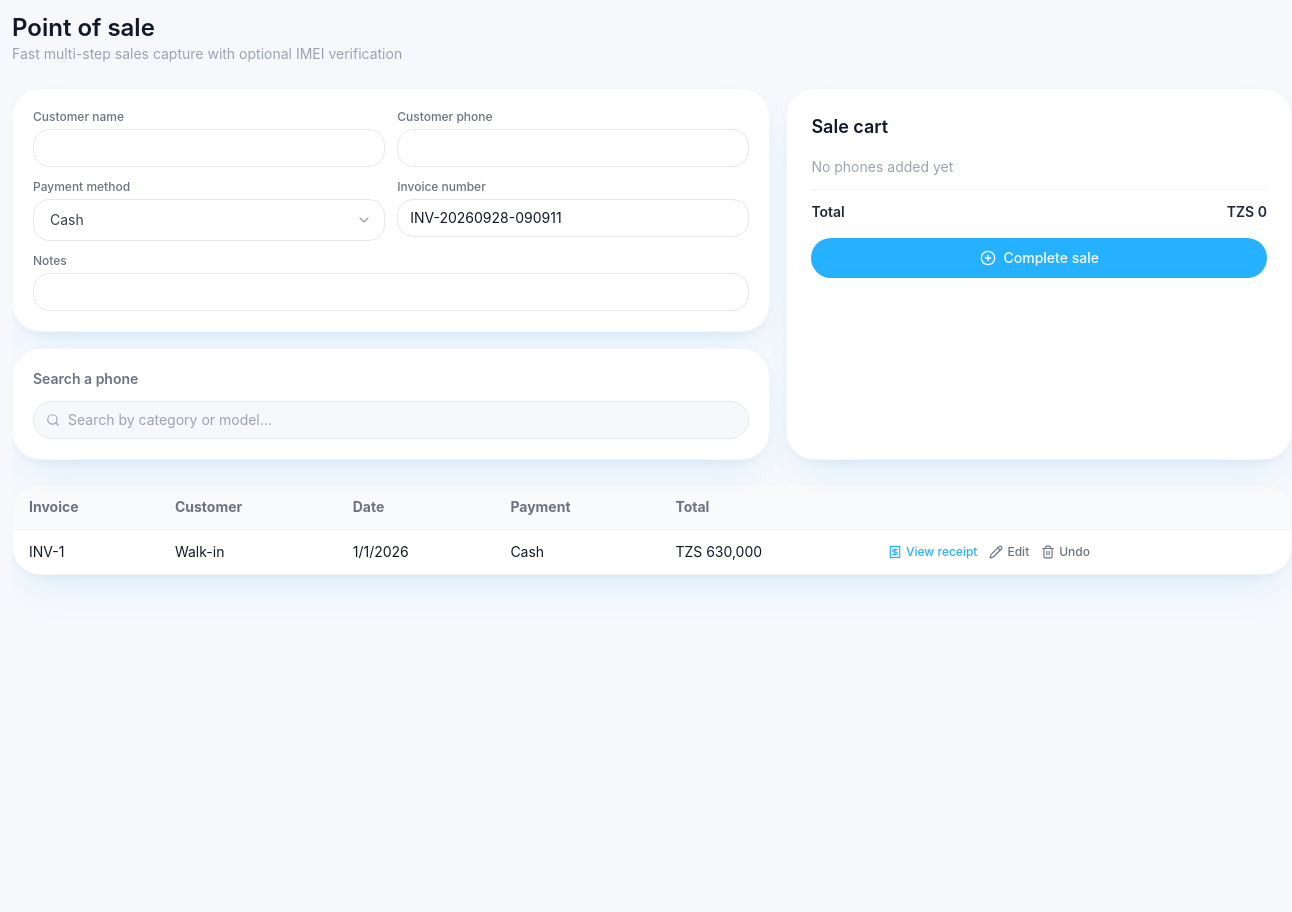
Test case: SalesPage › undoing a recorded sale › shows the server's error when undoing a sale is rejected
This screenshot has width=1292, height=912.
Click the button "Undo": click(1066, 552) [1041,544,1090,560]
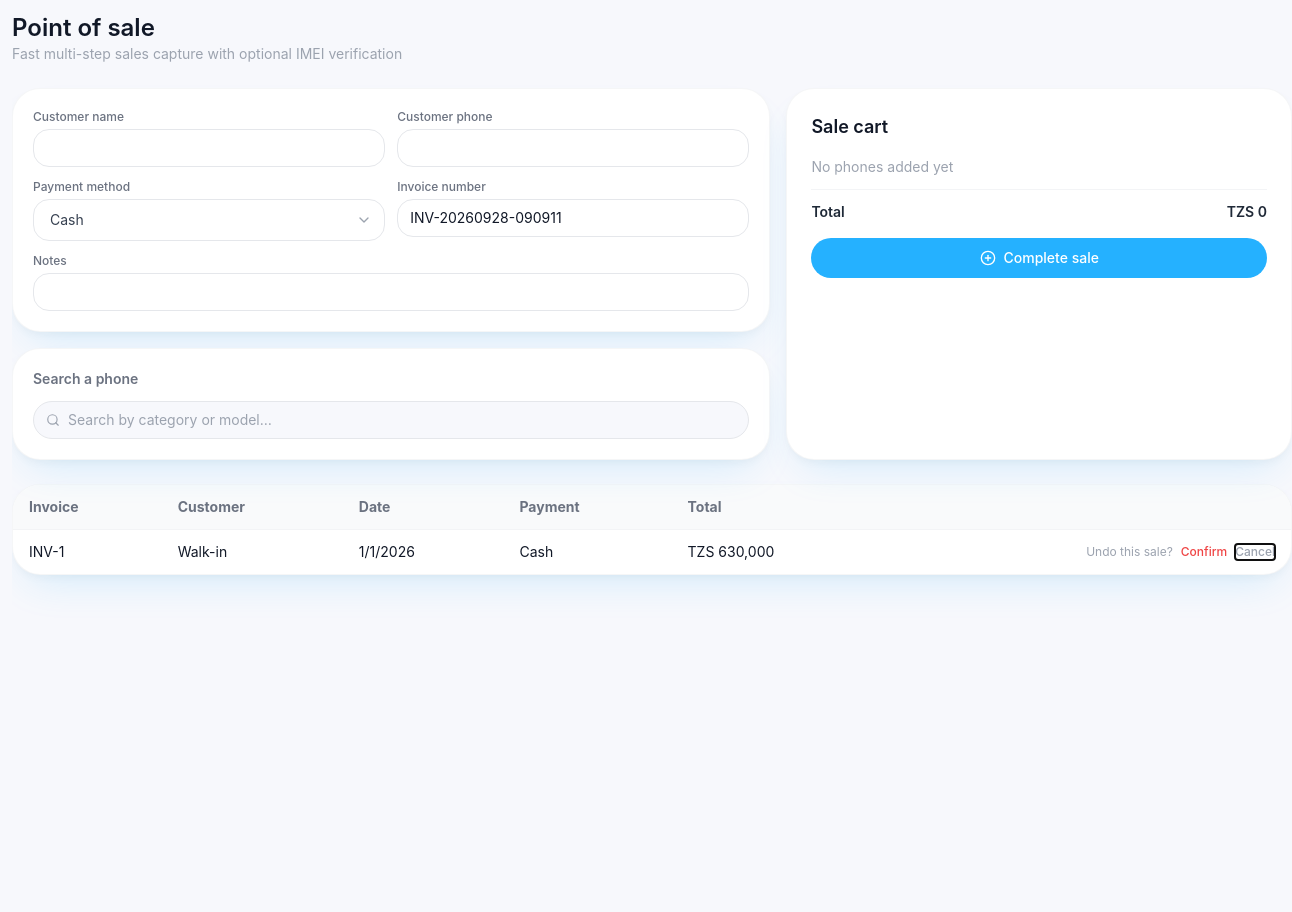
Click the button "Confirm": click(1204, 552) [1181,544,1227,560]
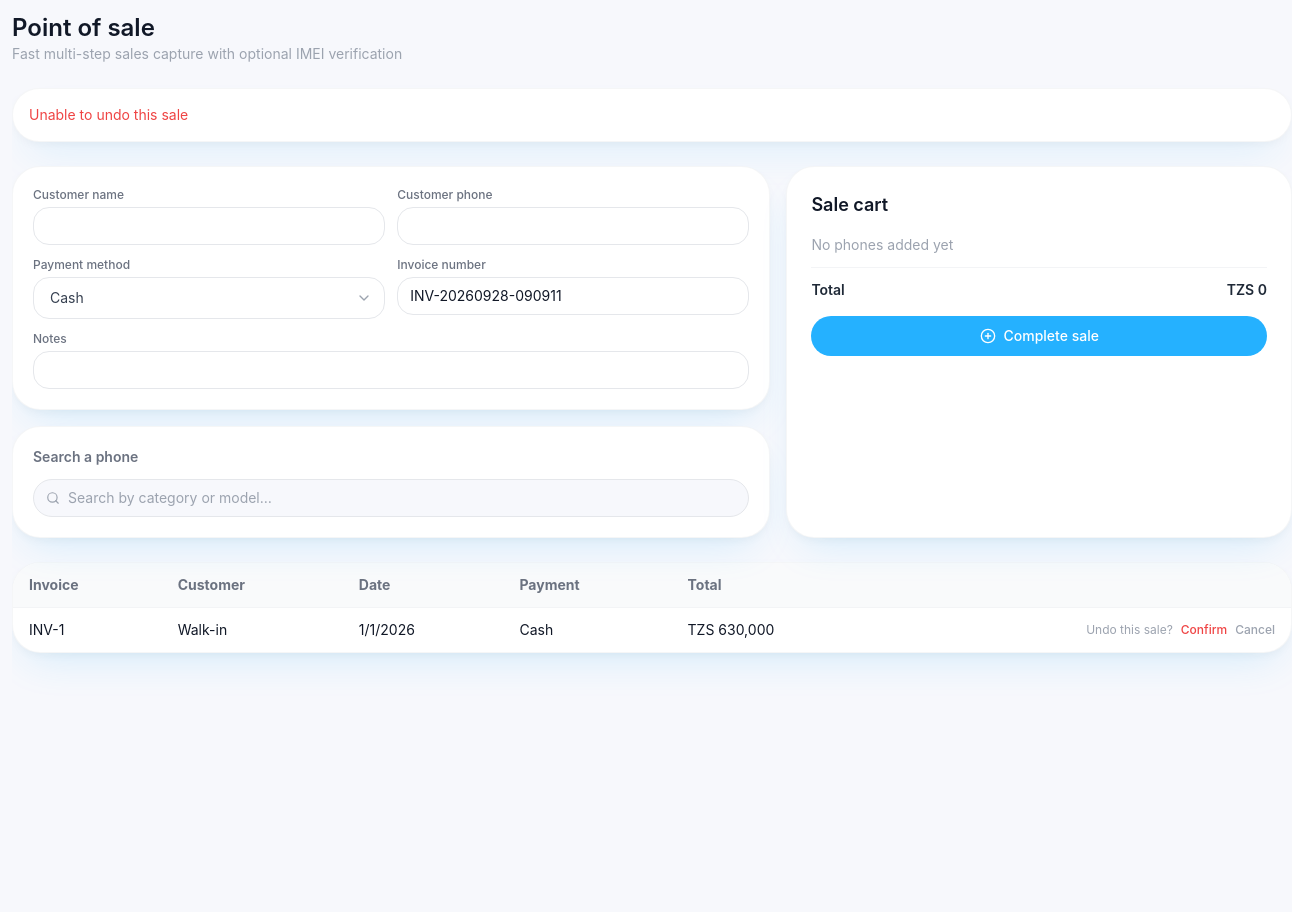
Expected: the text "Unable to undo this sale" is shown, [12,88,1291,142]
